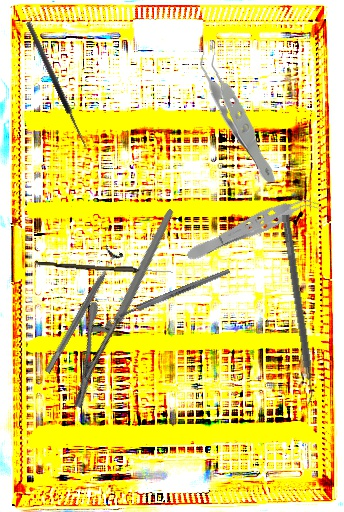Fixation Ring: (37, 244, 125, 378)
Hook Surgical: (24, 17, 97, 152)
Needle Holder: (23, 208, 226, 411)
Scalpel Handle: (118, 267, 231, 320)
Spatula Surgical: (272, 214, 320, 407)
Surgical Spoon: (35, 261, 174, 275)
Tissue Forceps: (193, 43, 284, 183), (183, 188, 322, 268)
